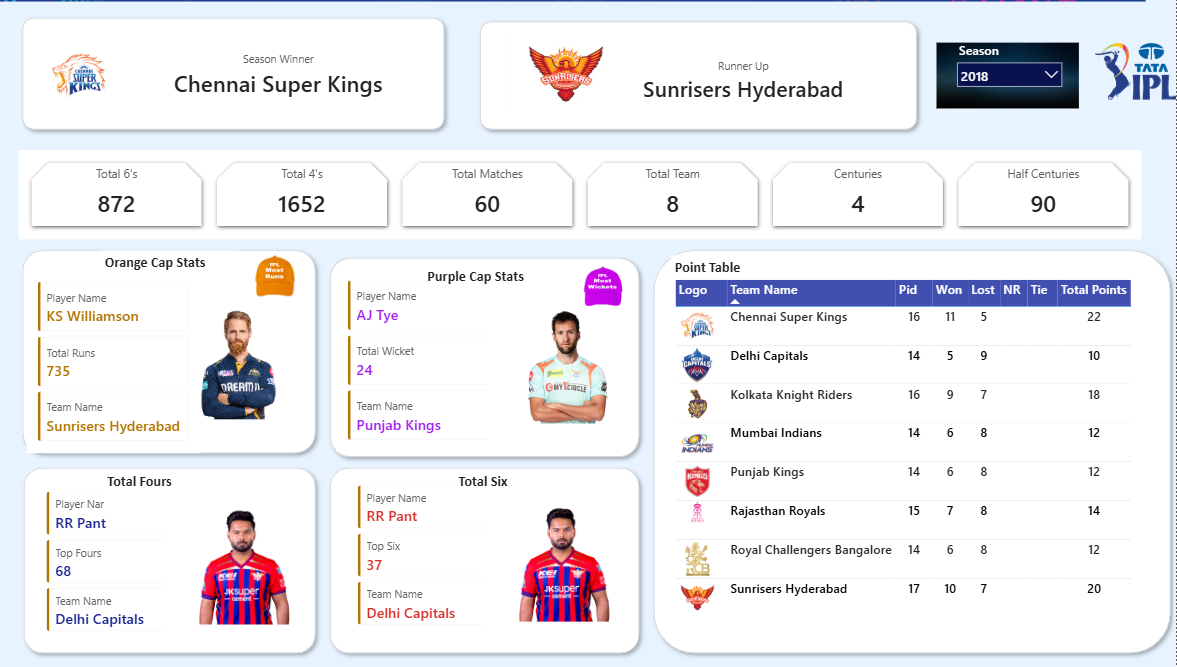

The page's visual inventory and layout, read from the dashboard file:
{"tool":"powerbi","page":{"name":"Page 1","canvas":[2000,1100],"ordinal":0},"visuals":[{"type":"shape","box":[0,15,240.2,1065],"z":0},{"type":"image","box":[221.4,15,1730,82],"z":1000},{"type":"image","box":[1640.3,114,213,183.1],"z":2000},{"type":"shape","box":[1206.9,455.8,794,624],"z":3000},{"type":"shape","box":[723,780.9,483.9,298.9],"z":4000},{"type":"shape","box":[265.3,780.9,457.7,298.9],"z":5000},{"type":"shape","box":[263.4,108.4,652,188.7],"z":6000},{"type":"cardVisual","fields":{"Data":["ipl_matches_data.Season Winner"]},"box":[411,143.9,491.3,119.6],"z":7000},{"type":"shape","box":[263.4,455.8,459.6,325.1],"z":8000},{"type":"cardVisual","fields":{"Data":["ipl_matches_data.Orange Cap Image"]},"box":[480.1,513.8,218.6,242.9],"z":9000},{"type":"cardVisual","fields":{"Data":["ipl_matches_data.Orange Cap Holder","ipl_matches_data.Orange Cap Runs","ipl_matches_data.Orange Cap Holder Team Name"]},"box":[280.2,496.9,259.7,272.8],"z":10000},{"type":"cardVisual","fields":{"Data":["ipl_matches_data.Total 6's","ipl_matches_data.Total 4's","ipl_matches_data.Total Matches","ipl_matches_data.Total Team","ipl_matches_data.Centuries","ipl_matches_data.Half Centuries"]},"box":[263.4,312,1688.9,143.9],"z":11000},{"type":"shape","box":[947.2,114,674.4,183.1],"z":12000},{"type":"cardVisual","fields":{"Data":["ipl_matches_data.Season Winner logo"]},"box":[293.3,155.1,132.6,99],"z":13000},{"type":"textbox","box":[769.2,15,743,82.6],"z":14000},{"type":"slicer","fields":{"Values":["ipl_matches_data.season"]},"box":[1660.8,149.5,177.5,110.2],"z":15000},{"type":"cardVisual","fields":{"Data":["ipl_matches_data.Runner Up"]},"box":[1141.5,162.5,420.3,100.9],"z":16000},{"type":"cardVisual","fields":{"Data":["ipl_matches_data.Runner Up logo"]},"box":[990.2,136.4,192.4,134.5],"z":17000},{"type":"textbox","box":[392.3,467.1,205.5,43],"z":18000},{"type":"image","box":[605.3,472.7,93.4,65.4],"z":19000},{"type":"shape","box":[723,467.1,483.9,319.5],"z":20000},{"type":"cardVisual","fields":{"Data":["ipl_matches_data.PurpleCapHolder","ipl_matches_data.PurpleCapWicketCount","ipl_matches_data.PurpleCapWicketTeam"]},"box":[743.6,495.1,259.7,272.8],"z":21000},{"type":"cardVisual","fields":{"Data":["ipl_matches_data.PurpleCapHolderImage"]},"box":[965.9,513.8,227.9,246.6],"z":22000},{"type":"textbox","box":[874.3,487.6,186.8,44.8],"z":23000},{"type":"image","box":[1094.8,489.5,95.3,63.5],"z":24000},{"type":"cardVisual","fields":{"Data":["ipl_matches_data.Top Four Player Name","ipl_matches_data.Top Fours Count","ipl_matches_data.Top Four Player Team Name"]},"box":[293.3,810.8,231.7,242.9],"z":25000},{"type":"textbox","box":[396.1,794,168.1,59.8],"z":26000},{"type":"cardVisual","fields":{"Data":["ipl_matches_data.Top Four Player Image"]},"box":[480.1,816.4,229.8,239.1],"z":27000},{"type":"cardVisual","fields":{"Data":["ipl_matches_data.Top Six Player Name","ipl_matches_data.Top Six Count","ipl_matches_data.Top Six Player Team Name"]},"box":[758.5,801.5,231.7,242.9],"z":28000},{"type":"cardVisual","fields":{"Data":["ipl_matches_data.Top Four Player Image"]},"box":[958.4,808.9,229.8,246.6],"z":29000},{"type":"textbox","box":[921,794,127,46.7],"z":30000},{"type":"tableEx","fields":{"Values":["teams_data.image_url","teams_data.team_name","ipl_matches_data.Matches Played","ipl_matches_data.Matches Won","ipl_matches_data.Matches Lost","ipl_matches_data.No Result Matches","ipl_matches_data.Tie Played","ipl_matches_data.Total Points"]},"box":[1244.2,506.3,708.1,538],"z":31000},{"type":"textbox","box":[1244.2,474.5,186.8,35.5],"z":32000},{"type":"image","box":[0,97.1,222.3,156.9],"z":33000},{"type":"cardVisual","fields":{"Data":["ipl_matches_data.IPL Season"]},"box":[0,297,224.2,158.8],"z":34000},{"type":"actionButton","box":[84.1,539.9,140.1,39.2],"z":35000},{"type":"image","box":[26.2,539.9,57.9,39.2],"z":36000},{"type":"actionButton","box":[84.1,618.4,140.1,39.2],"z":37000},{"type":"actionButton","box":[84.1,698.7,140.1,39.2],"z":38000},{"type":"image","box":[11.2,596,72.9,80.3],"z":39000},{"type":"image","box":[11.2,676.3,67.3,80.3],"z":40000},{"type":"image","box":[11.2,780.9,67.3,80.3],"z":41000},{"type":"actionButton","box":[84.1,795.9,140.1,54.2],"z":42000},{"type":"image","box":[11.2,881.8,67.3,80.3],"z":43000},{"type":"image","box":[11.2,975.2,67.3,80.3],"z":44000},{"type":"actionButton","box":[84.1,902.3,140.1,54.2],"z":45000},{"type":"actionButton","box":[84.1,990.2,140.1,54.2],"z":46000},{"type":"image","box":[1877.6,100.9,123.3,196.2],"z":47000}]}

Visuals, with their boxes in screenshot pixels (x1, y1, x2, y2), scaled from the page's 2000x1100 canvas onto the 1177x667 screenshot:
shape: 0,9,141,655
image: 130,9,1148,59
image: 965,69,1091,180
shape: 710,276,1176,655
shape: 425,474,710,655
shape: 156,474,425,655
shape: 155,66,539,180
cardVisual - ipl_matches_data.Season Winner: 242,87,531,160
shape: 155,276,425,474
cardVisual - ipl_matches_data.Orange Cap Image: 283,312,411,459
cardVisual - ipl_matches_data.Orange Cap Holder x ipl_matches_data.Orange Cap Runs: 165,301,318,467
cardVisual - ipl_matches_data.Total 6's x ipl_matches_data.Total 4's: 155,189,1149,276
shape: 557,69,954,180
cardVisual - ipl_matches_data.Season Winner logo: 173,94,251,154
textbox: 453,9,890,59
slicer - ipl_matches_data.season: 977,91,1082,157
cardVisual - ipl_matches_data.Runner Up: 672,99,919,160
cardVisual - ipl_matches_data.Runner Up logo: 583,83,696,164
textbox: 231,283,352,309
image: 356,287,411,326
shape: 425,283,710,477
cardVisual - ipl_matches_data.PurpleCapHolder x ipl_matches_data.PurpleCapWicketCount: 438,300,590,466
cardVisual - ipl_matches_data.PurpleCapHolderImage: 568,312,703,461
textbox: 515,296,624,323
image: 644,297,700,335
cardVisual - ipl_matches_data.Top Four Player Name x ipl_matches_data.Top Fours Count: 173,492,309,639
textbox: 233,481,332,518
cardVisual - ipl_matches_data.Top Four Player Image: 283,495,418,640
cardVisual - ipl_matches_data.Top Six Player Name x ipl_matches_data.Top Six Count: 446,486,583,633
cardVisual - ipl_matches_data.Top Four Player Image: 564,490,699,640
textbox: 542,481,617,510
tableEx - teams_data.image_url x teams_data.team_name: 732,307,1149,633
textbox: 732,288,842,309
image: 0,59,131,154
cardVisual - ipl_matches_data.IPL Season: 0,180,132,276
actionButton: 49,327,132,351
image: 15,327,49,351
actionButton: 49,375,132,399
actionButton: 49,424,132,447
image: 7,361,49,410
image: 7,410,46,459
image: 7,474,46,522
actionButton: 49,483,132,515
image: 7,535,46,583
image: 7,591,46,640
actionButton: 49,547,132,580
actionButton: 49,600,132,633
image: 1105,61,1176,180
